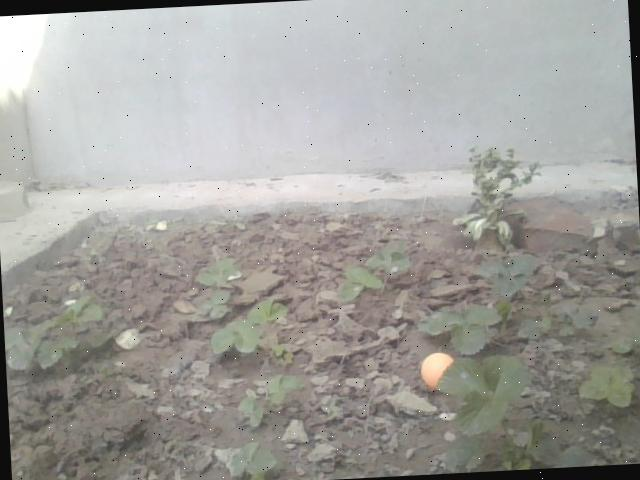ball: (422, 354, 456, 390)
